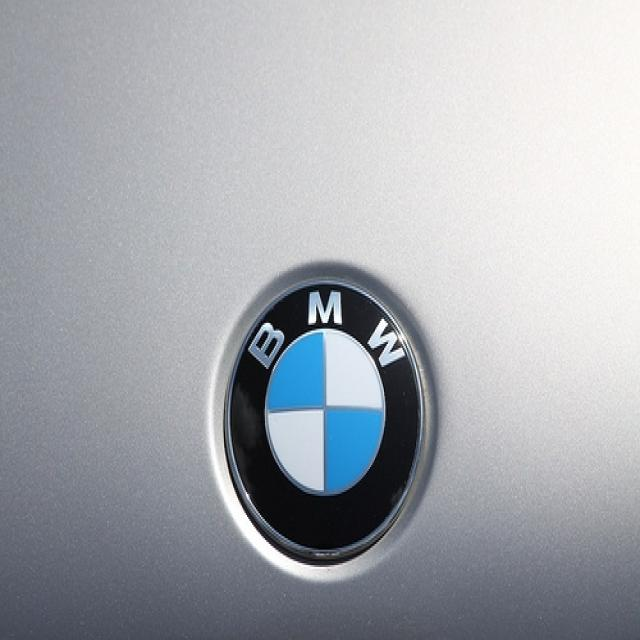bmw: (219, 270, 433, 576)
